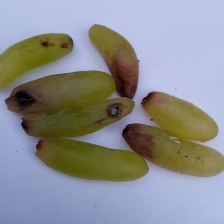grapes: (31, 12, 217, 193)
